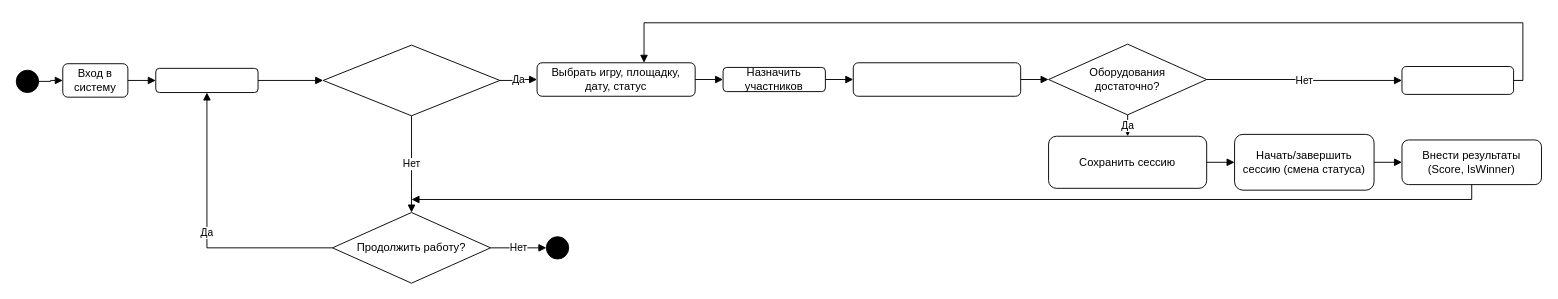
Image size: 1558x299. Some labels were removed from this diagram. Here are the shapes that lost their labels. From the top down, the box of each, then its label:
(155, 67, 258, 93): Открыть раздел «Сессии»
(322, 44, 500, 116): Создать или изменить сессию?
(852, 62, 1021, 96): Проверить обеспеченность оборудованием
(1401, 66, 1514, 94): Скорректировать площадку/состав
